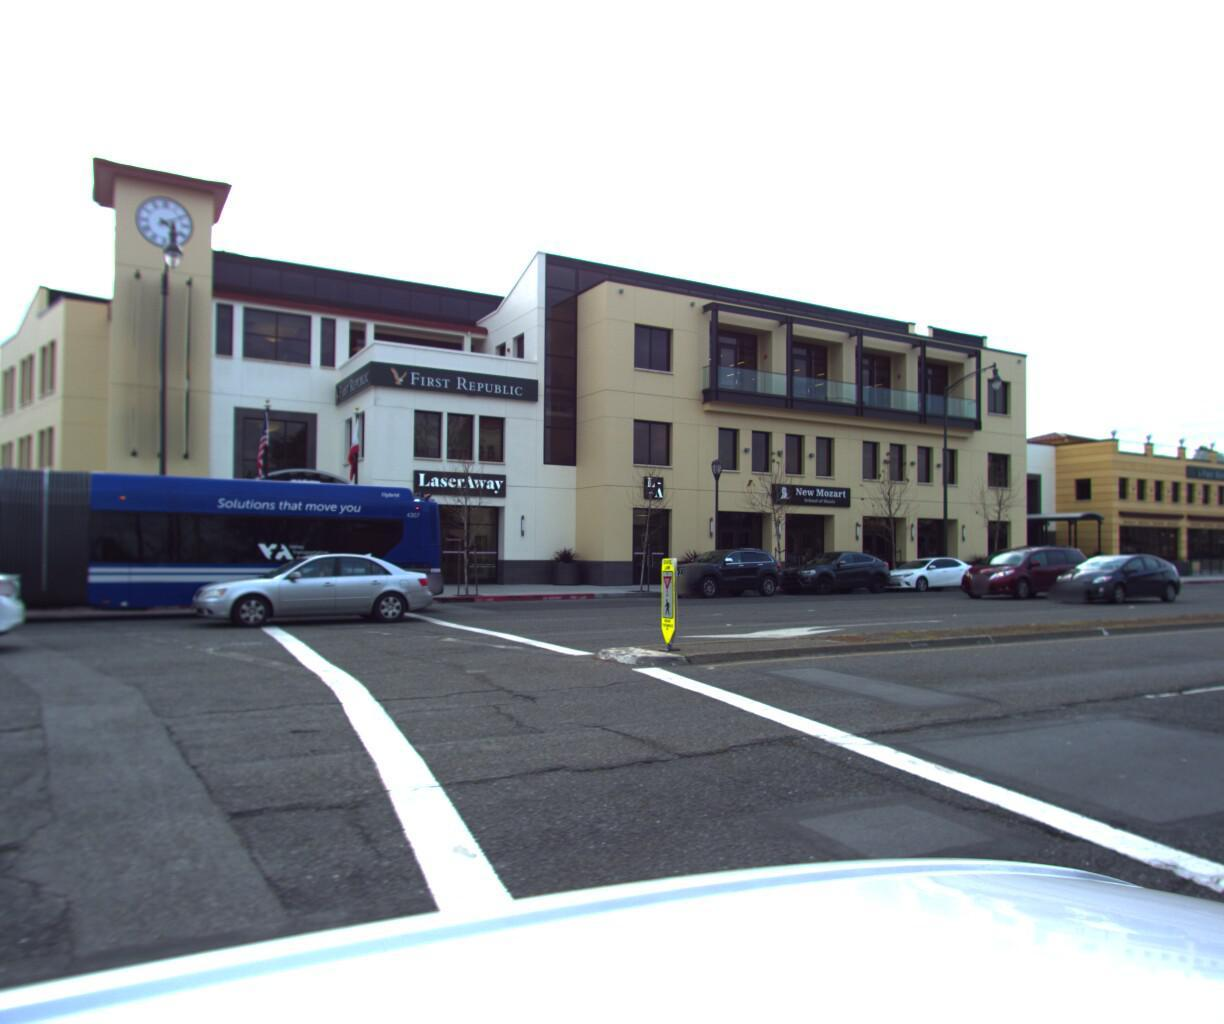car: (186, 549, 440, 628), (651, 543, 790, 601), (952, 540, 1092, 594), (1043, 548, 1182, 602), (772, 548, 898, 595), (871, 552, 983, 593), (1214, 544, 1224, 584)
